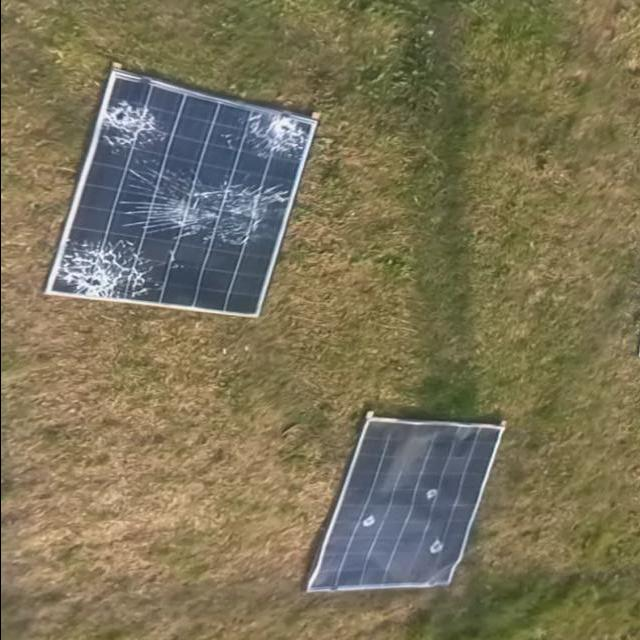cracked: (42, 67, 315, 328)
soiled: (309, 407, 505, 607)
